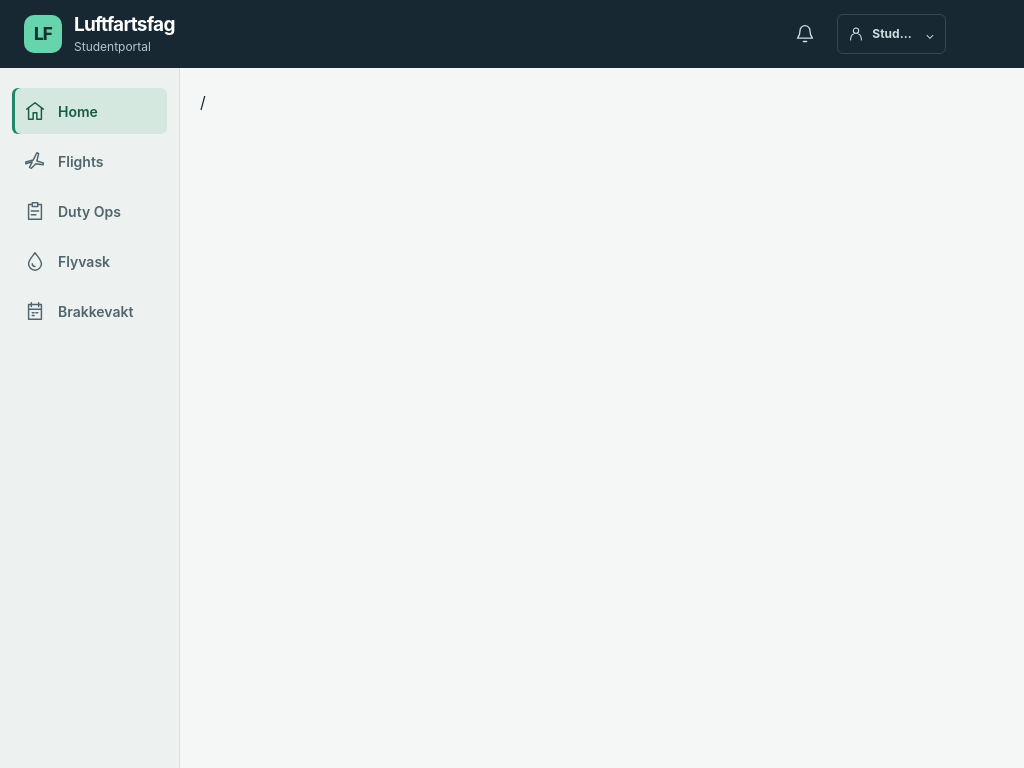
Test case: Global account and navigation › opens the compact account menu with email, activity and Settings
Check: the element with class "current-user" does not show "student@example.test"
Click the button with class "current-user" at (892, 34), box [837,14,946,54]
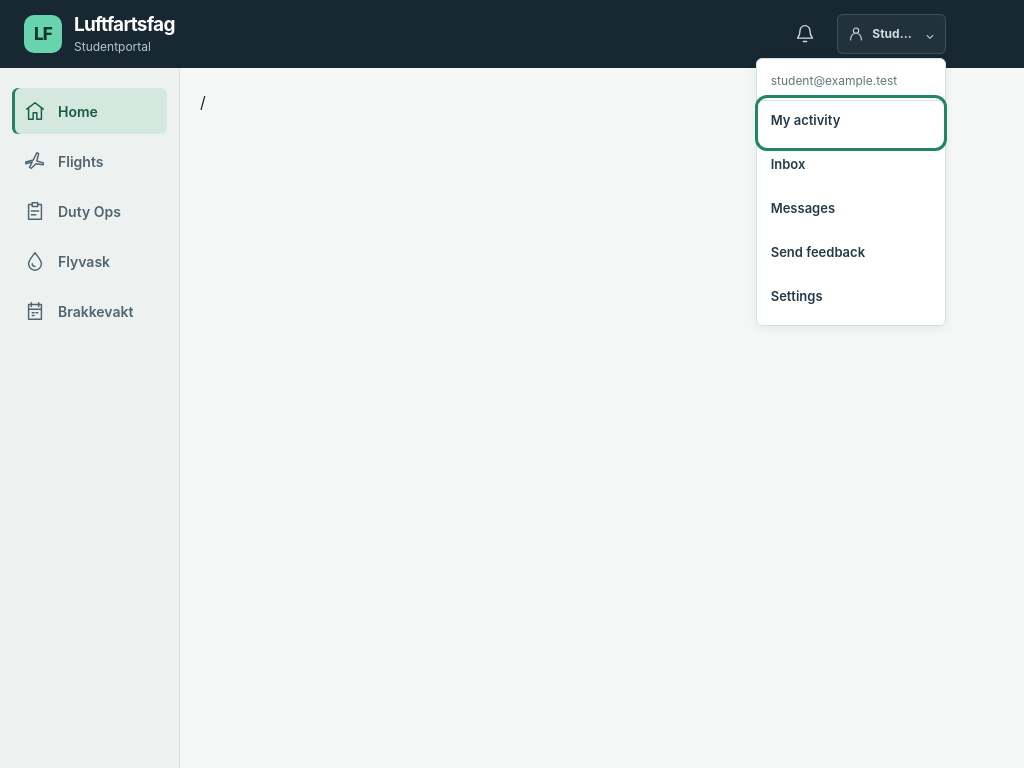
Check: the element with class "account-menu" shows "student@example.test", box [771,73,897,88]
Check: the link "My activity" is shown, box [771,112,840,128]
Click the link to "/settings" at (797, 296), box [771,288,823,304]
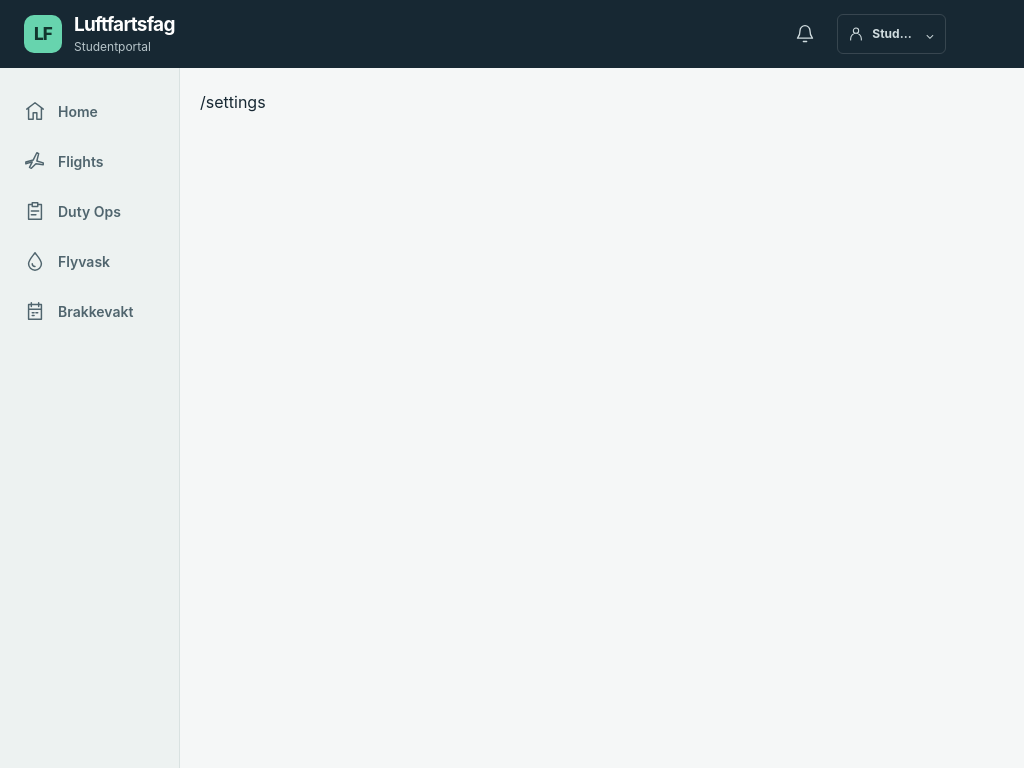
Check: the text "/settings" is shown, box [200,92,266,112]
Check: the element with class "account-menu" is gone
